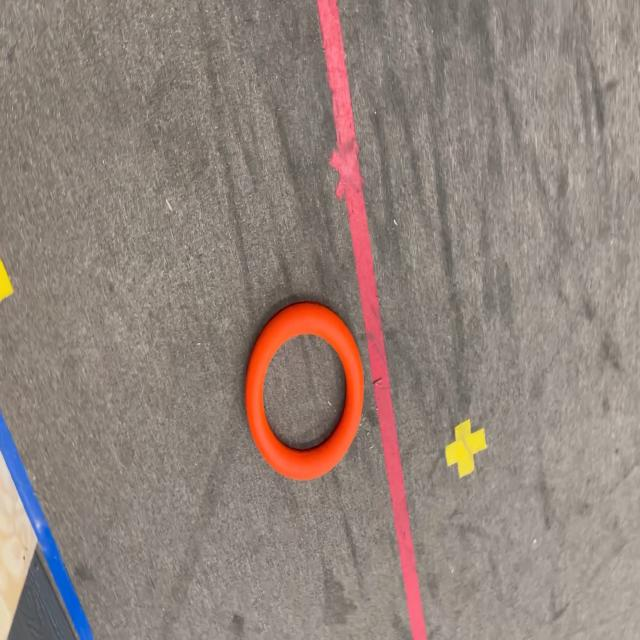note: (246, 303, 366, 480)
